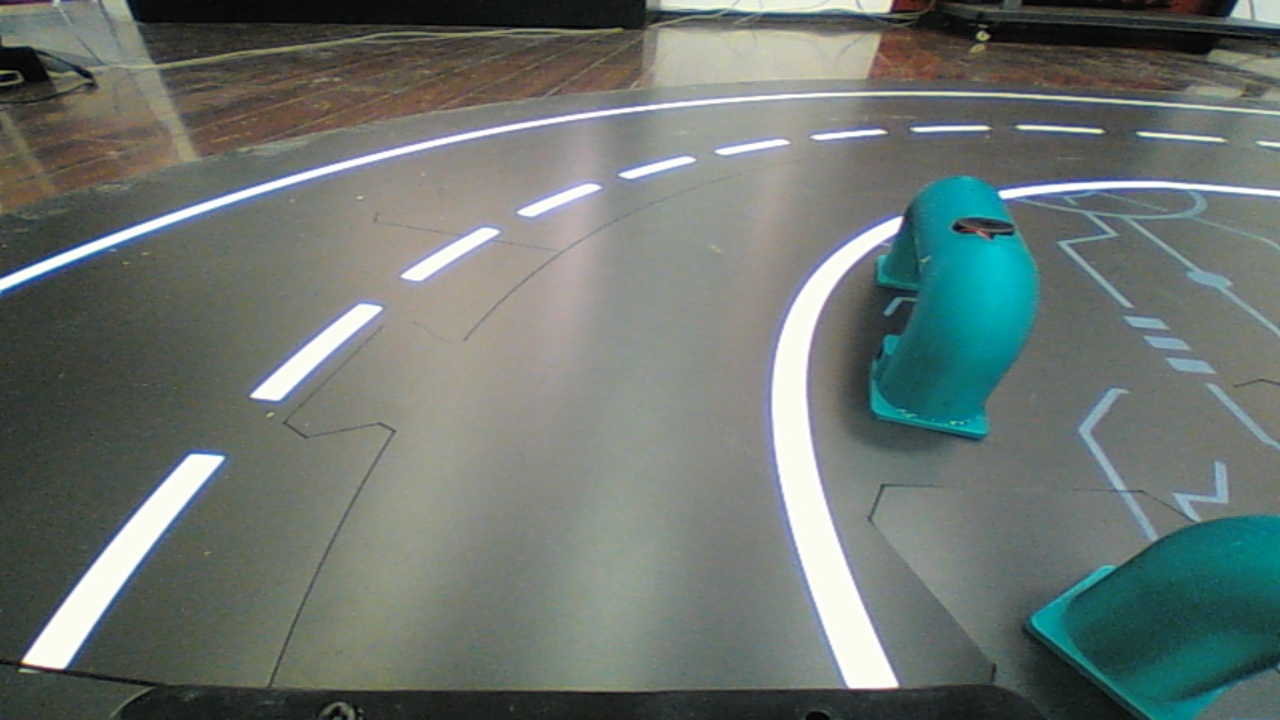Pedestrian crossing: (855, 153, 1044, 425)
